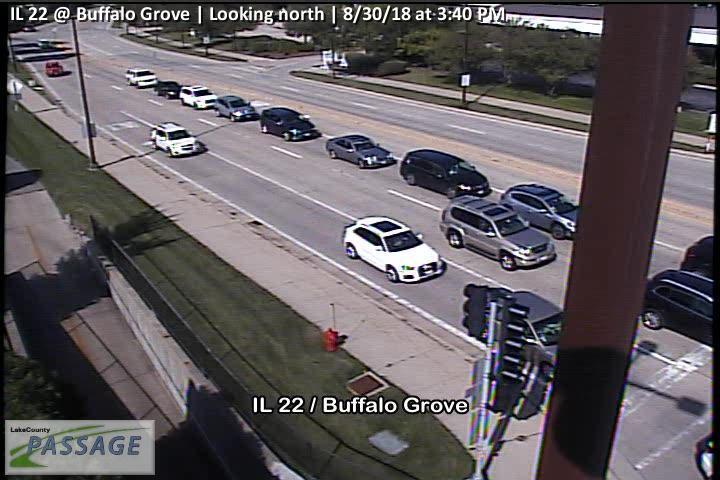SUV: (439, 194, 557, 271)
Sedan: (344, 214, 446, 284), (497, 183, 589, 240), (397, 148, 491, 199), (323, 132, 395, 169), (259, 105, 319, 139), (150, 122, 203, 157), (213, 94, 256, 121), (179, 85, 216, 109), (124, 68, 157, 87), (154, 80, 182, 99)
